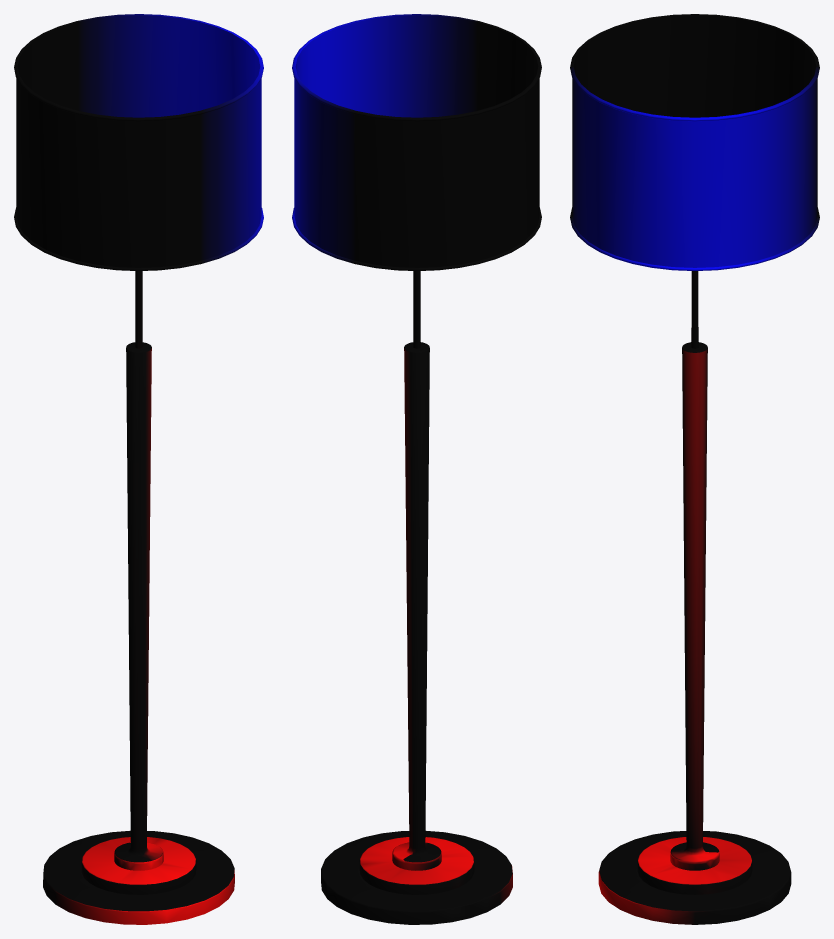
Rendered from luminaria-cilindro.FBX.
3 renders of one model, left to right at view 1: azimuth 30°, elevation 25°; view 2: azimuth 150°, elevation 25°; view 3: azimuth 270°, elevation 25°, orthographic.
Parts seen in each view (by area): view 1: luminaria_cilindro; view 2: luminaria_cilindro; view 3: luminaria_cilindro.
Part boxes in pixels (left/top/right/bottom): luminaria_cilindro: left=14, top=14, right=263, bottom=924; luminaria_cilindro: left=292, top=14, right=541, bottom=924; luminaria_cilindro: left=570, top=14, right=819, bottom=924.
Size of the model in its own units: 60.92 by 220 by 60.92.
